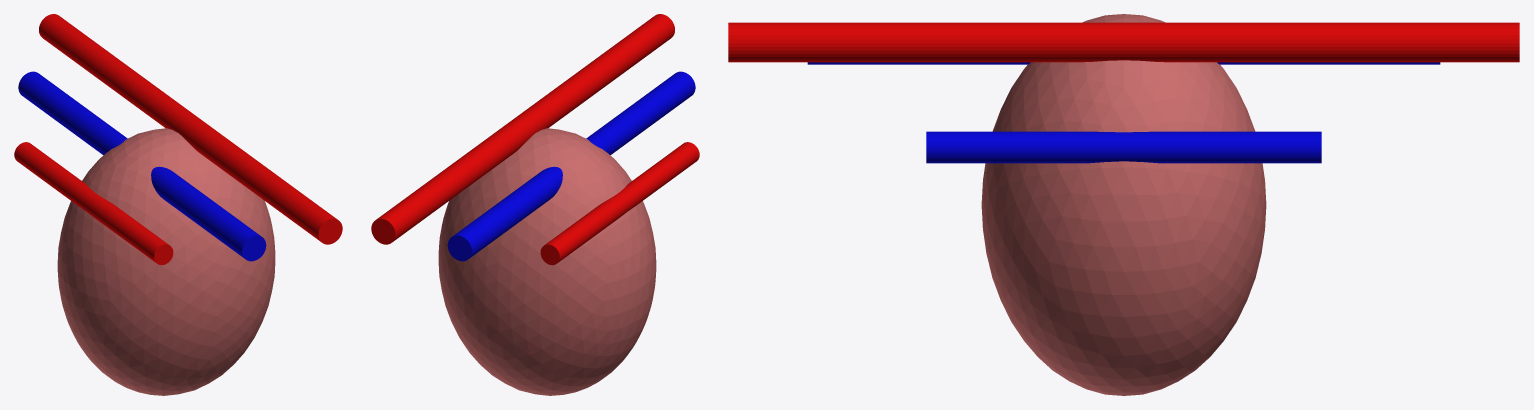
Rendered from circulatory_system.glb.
3 renders of one model, left to right at view 1: azimuth 30°, elevation 25°; view 2: azimuth 150°, elevation 25°; view 3: azimuth 270°, elevation 25°, orthographic. The views are drawn at different scales.
Visible parts, largest first — view 1: world; view 2: world; view 3: world.
Part boxes in pixels (bbox=[...]): world: bbox=[14, 14, 342, 395]; world: bbox=[371, 14, 699, 395]; world: bbox=[728, 14, 1519, 395].
Bounding box in the file's own units: 4 × 5.25 × 10.
